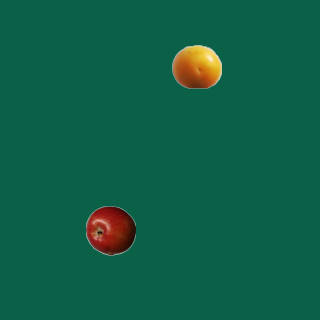Apple Braeburn: (85, 205, 135, 255)
Cherry Wax Yellow: (171, 41, 221, 91)
